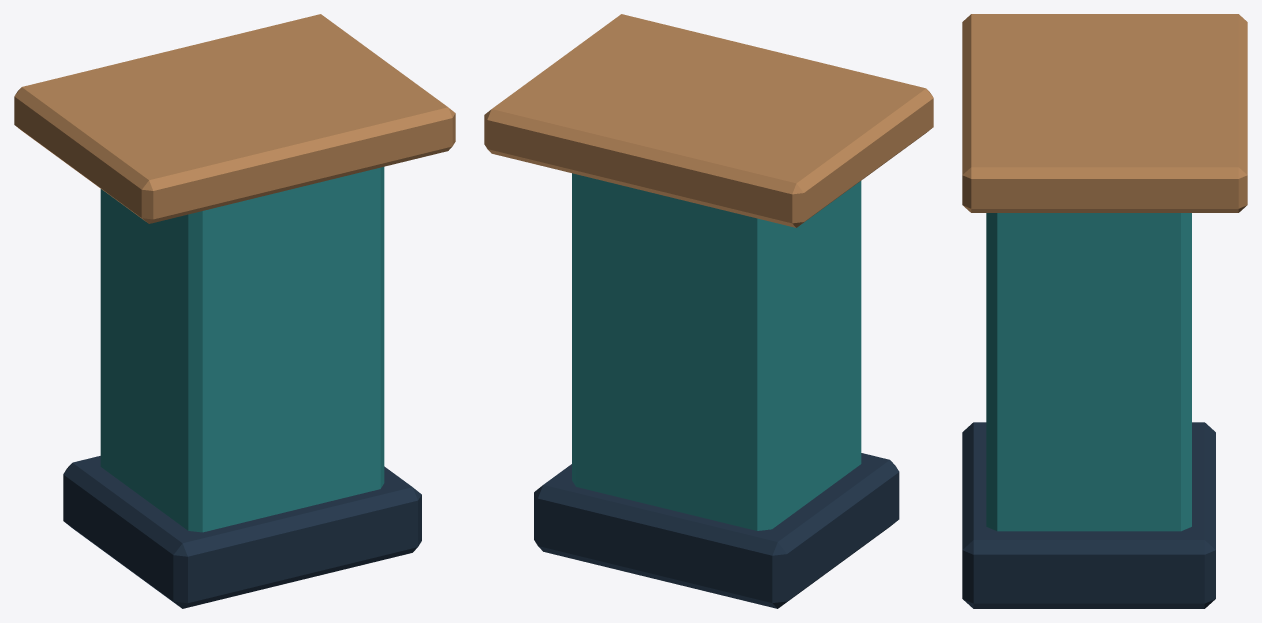
The model's file is SM_Podium.obj.
The picture shows the model from 3 angles, left to right: view 1: azimuth 30°, elevation 25°; view 2: azimuth 150°, elevation 25°; view 3: azimuth 270°, elevation 25°; orthographic projection. The views are drawn at different scales.
Visible parts, largest first — view 1: SM_Podium; view 2: SM_Podium; view 3: SM_Podium.
Part boxes in pixels (box(x1,y1,x2,y2)): SM_Podium: box(14, 14, 455, 608); SM_Podium: box(484, 14, 933, 608); SM_Podium: box(962, 14, 1247, 608).
Bounding box in the file's own units: 1.2 × 1.6 × 0.9.
